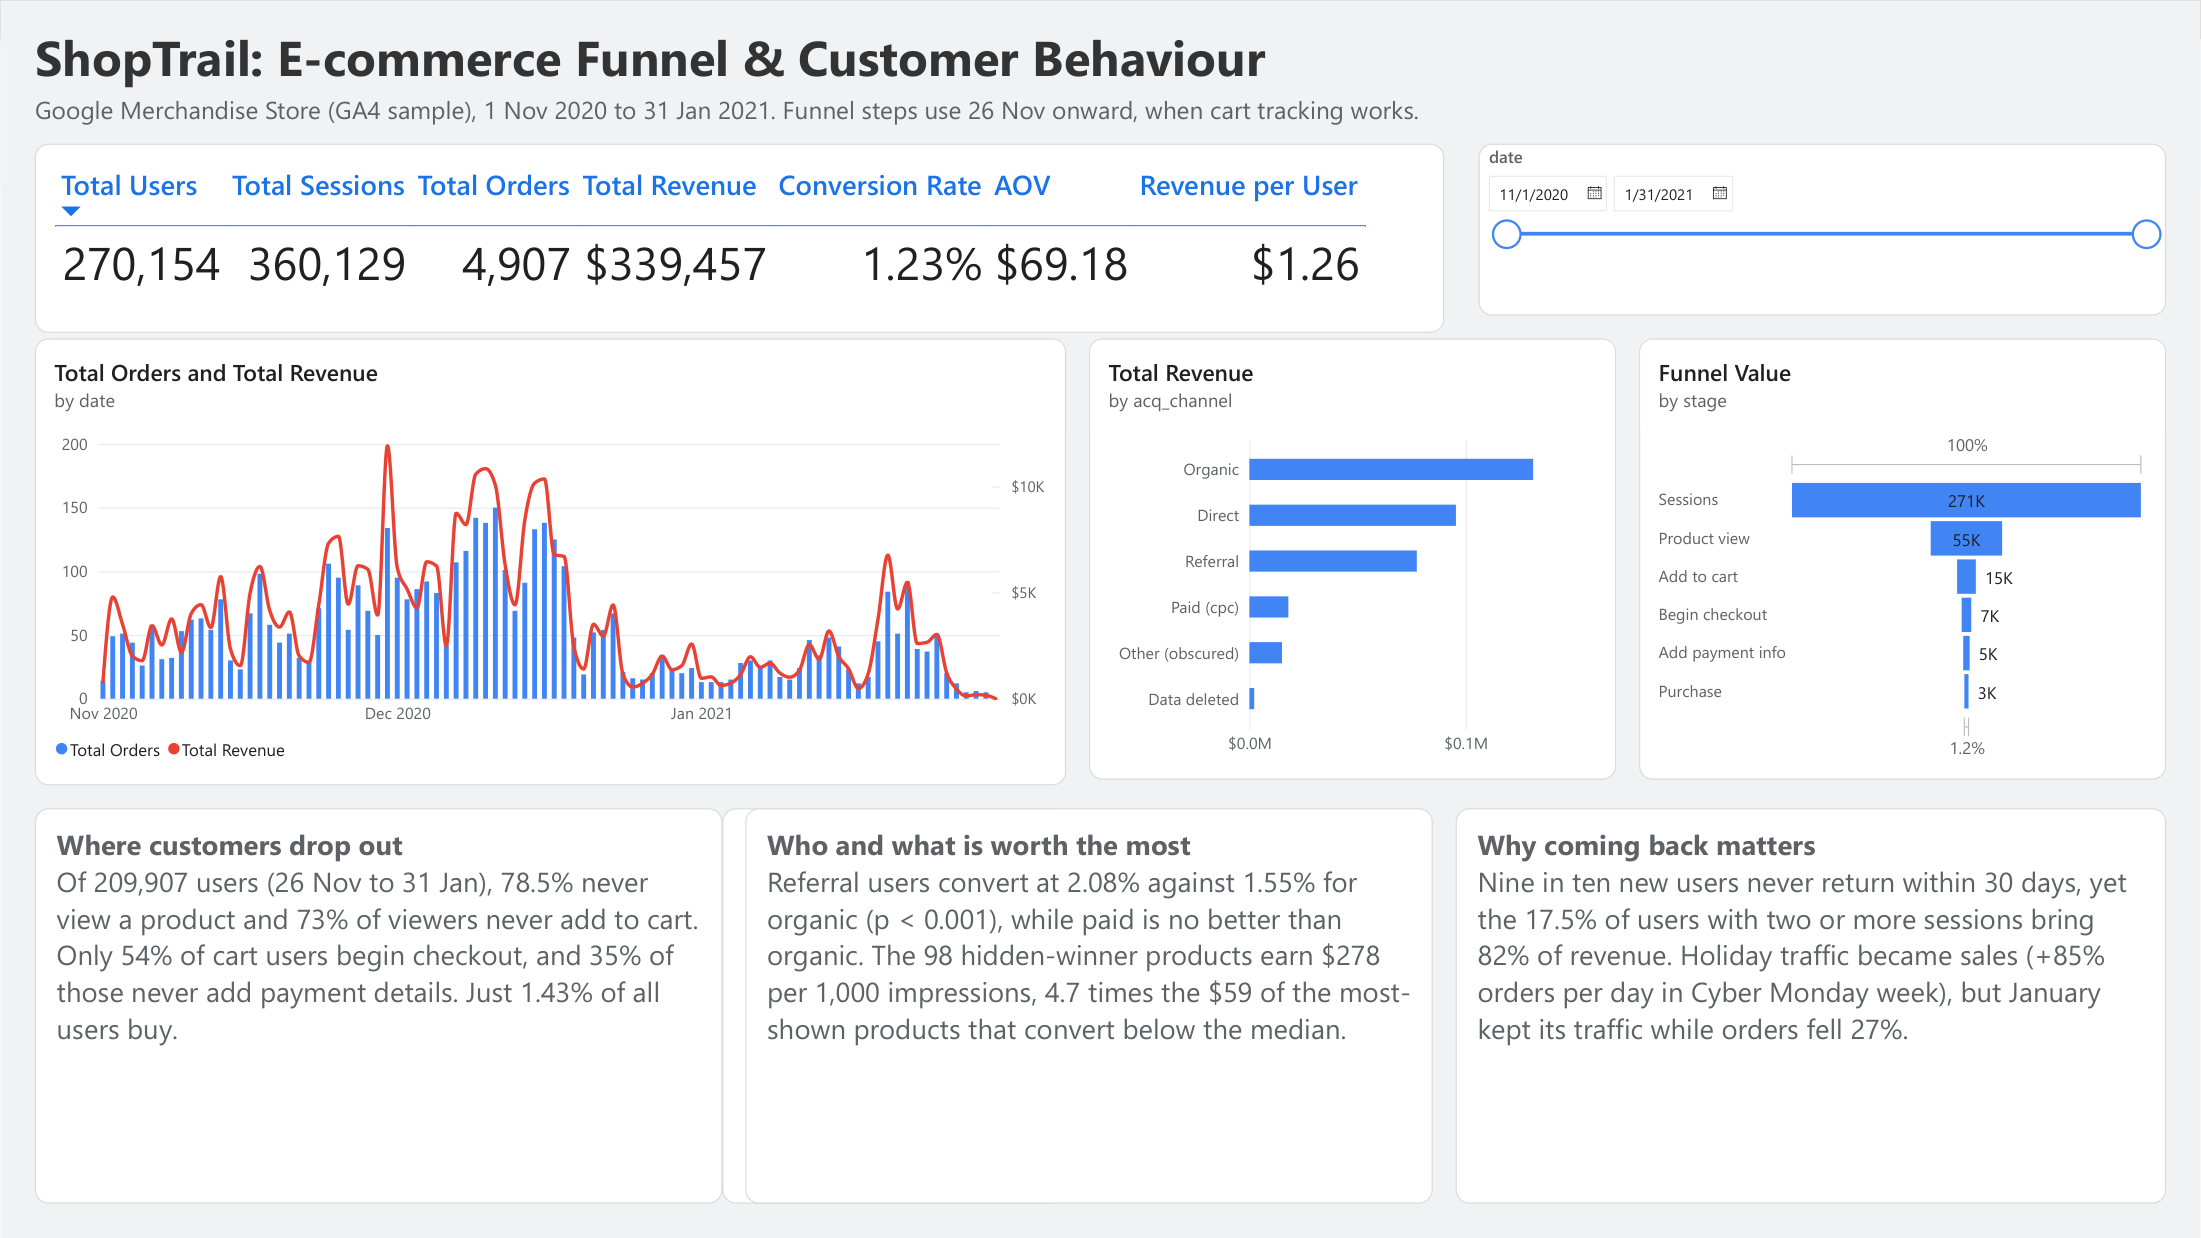

The page's visual inventory and layout, read from the dashboard file:
{"tool":"powerbi","page":{"name":"Page 1","canvas":[1920,1080],"ordinal":0},"visuals":[{"type":"tableEx","fields":{"Values":["SessionFacts.Total Users","SessionFacts.Total Sessions","SessionFacts.Total Orders","SessionFacts.Total Revenue","SessionFacts.Conversion Rate","SessionFacts.AOV","SessionFacts.Revenue per User"]},"box":[30,125,1230,165],"z":0},{"type":"slicer","fields":{"Values":["DimDate.date"]},"box":[1290,125,600,150],"z":1000},{"type":"lineStackedColumnComboChart","fields":{"Category":["DimDate.date"],"Y":["SessionFacts.Total Orders"],"Y2":["SessionFacts.Total Revenue"]},"box":[30,295,900,390],"z":2000},{"type":"clusteredBarChart","fields":{"Category":["SessionFacts.acq_channel"],"Y":["SessionFacts.Total Revenue"]},"box":[950,295,460,385],"z":2001},{"type":"funnel","fields":{"Category":["FunnelStages.stage"],"Y":["SessionFacts.Funnel Value"]},"box":[1430,295,460,385],"z":2002},{"type":"textbox","box":[30,20,1250,70],"z":2003},{"type":"textbox","box":[30,80,1250,45],"z":2004},{"type":"textbox","box":[30,705,600,345],"z":2005},{"type":"textbox","box":[630,705,300,345],"z":2006},{"type":"textbox","box":[650,705,600,345],"z":2007},{"type":"textbox","box":[1270,705,620,345],"z":2008}]}

Visuals, with their boxes in screenshot pixels (x1, y1, x2, y2), scaled from the page's 1920x1080 canvas onto the 2201x1238 screenshot:
tableEx - SessionFacts.Total Users x SessionFacts.Total Sessions: detection(34, 143, 1444, 332)
slicer - DimDate.date: detection(1479, 143, 2167, 315)
lineStackedColumnComboChart - DimDate.date x SessionFacts.Total Orders: detection(34, 338, 1066, 785)
clusteredBarChart - SessionFacts.acq_channel x SessionFacts.Total Revenue: detection(1089, 338, 1616, 779)
funnel - FunnelStages.stage x SessionFacts.Funnel Value: detection(1639, 338, 2167, 779)
textbox: detection(34, 23, 1467, 103)
textbox: detection(34, 92, 1467, 143)
textbox: detection(34, 808, 722, 1204)
textbox: detection(722, 808, 1066, 1204)
textbox: detection(745, 808, 1433, 1204)
textbox: detection(1456, 808, 2167, 1204)
